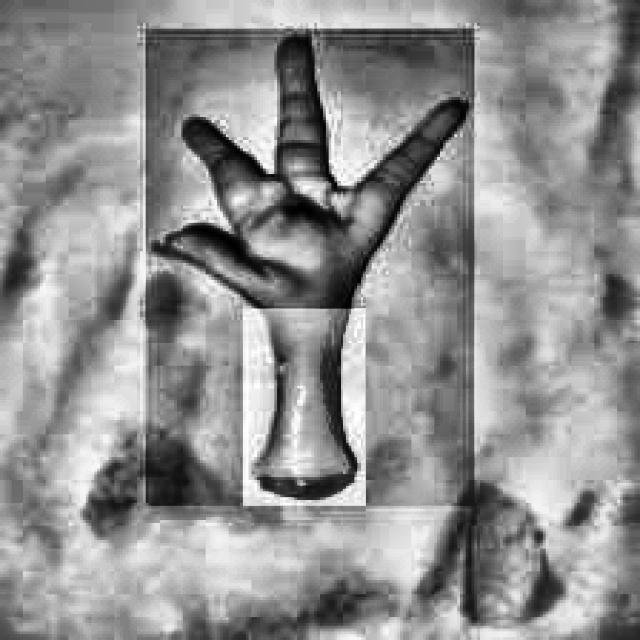Bumble foot: (148, 28, 472, 503), (274, 192, 340, 232)
